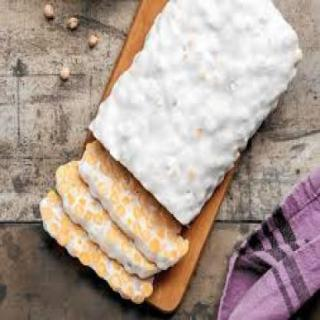Tempe: (36, 2, 304, 306)
